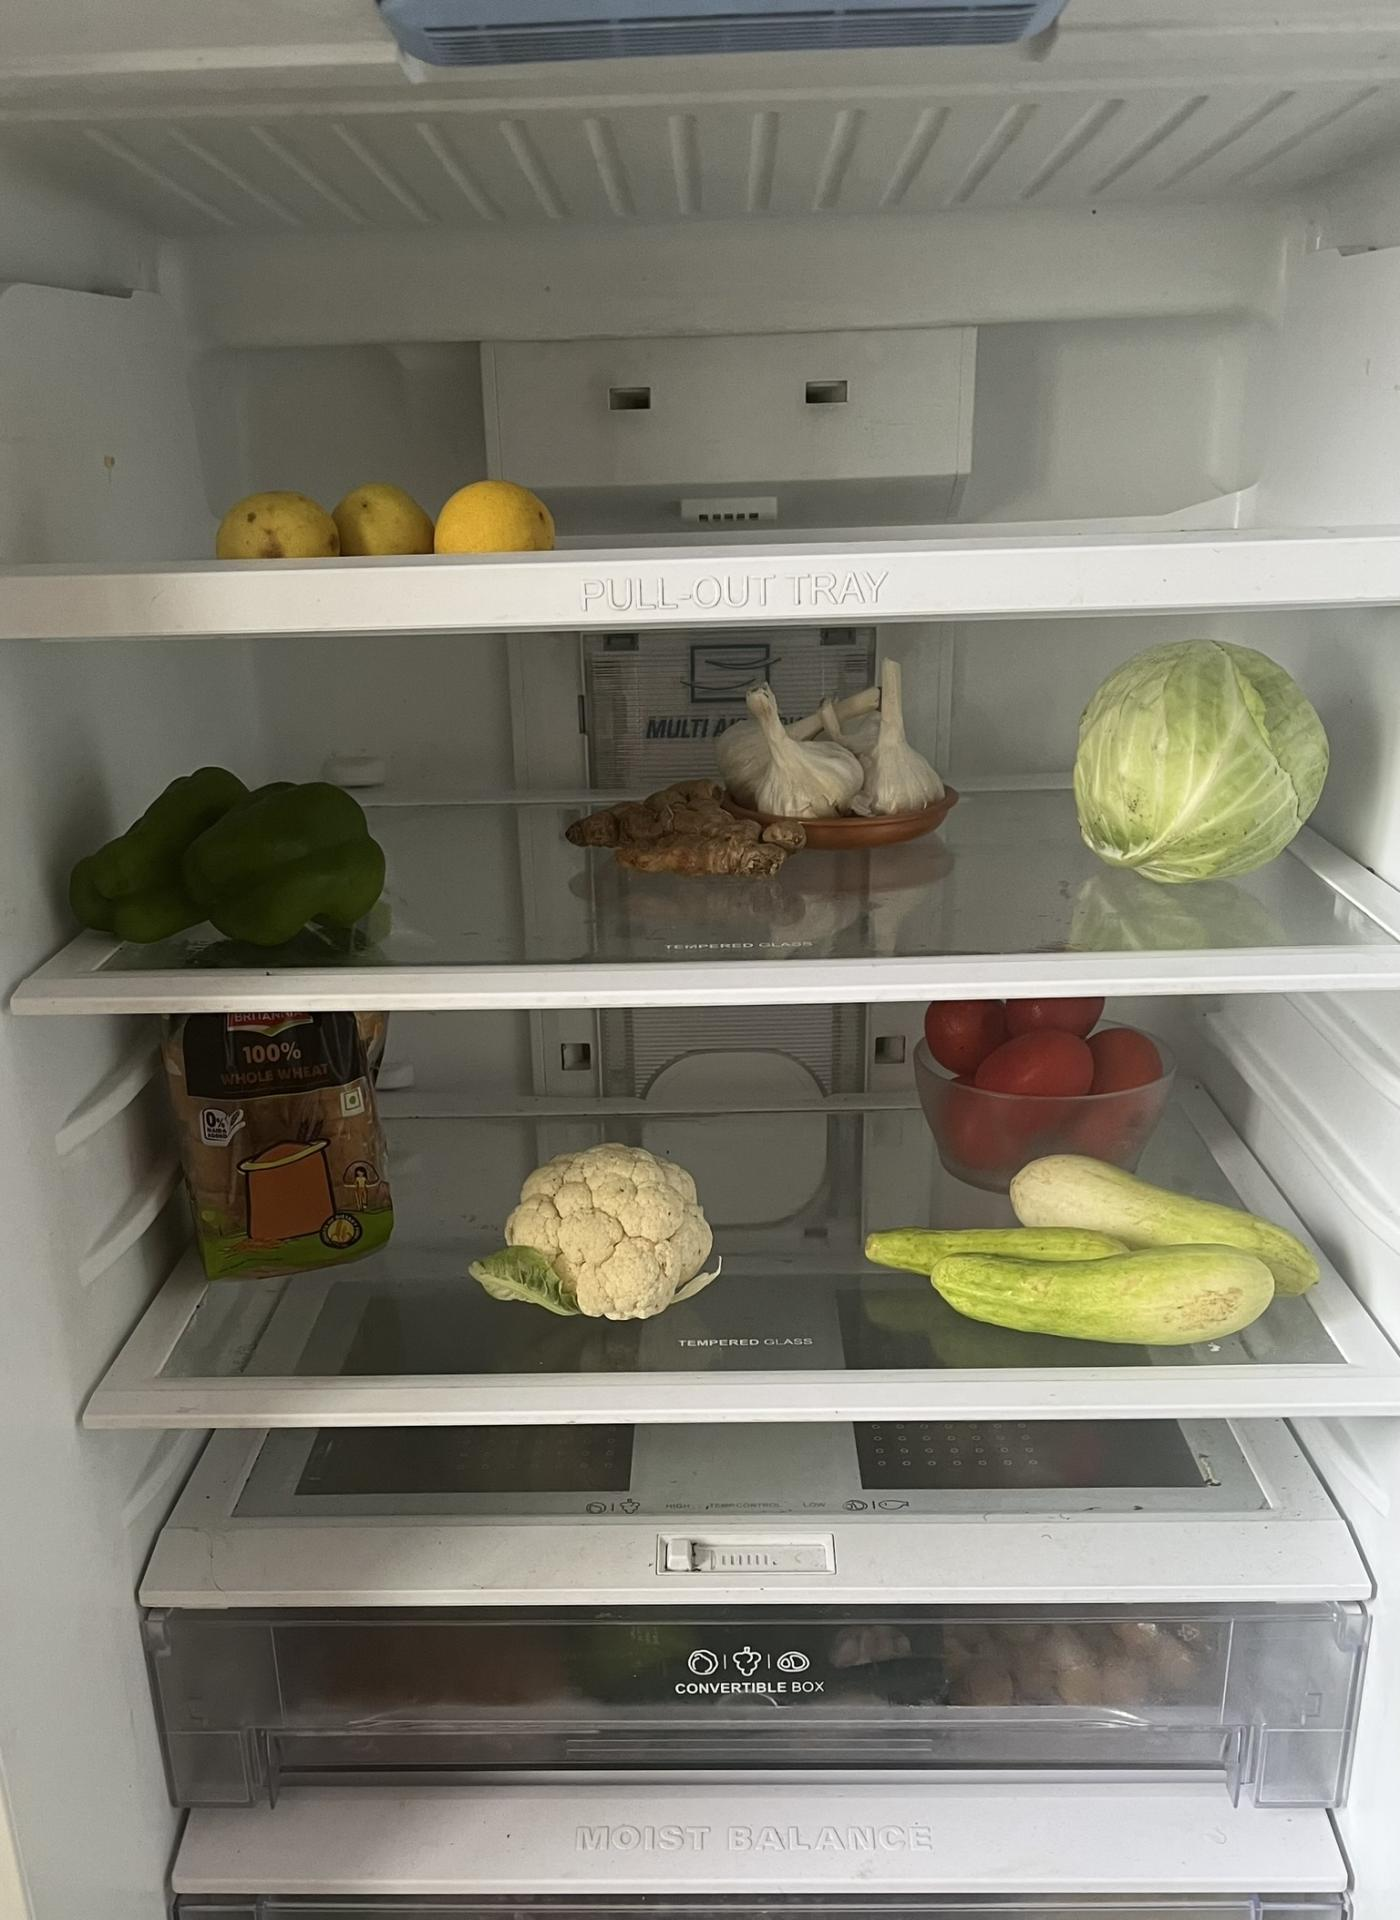bread: (140, 1012, 407, 1288)
cabbage: (1063, 631, 1343, 891)
capsicum: (61, 759, 407, 960)
cauliflower: (468, 1134, 729, 1331)
cucumber: (866, 1146, 1334, 1351)
garlic: (717, 656, 966, 838)
ginger: (559, 769, 832, 881)
lemon: (210, 462, 571, 556)
tomato: (905, 997, 1179, 1172)
